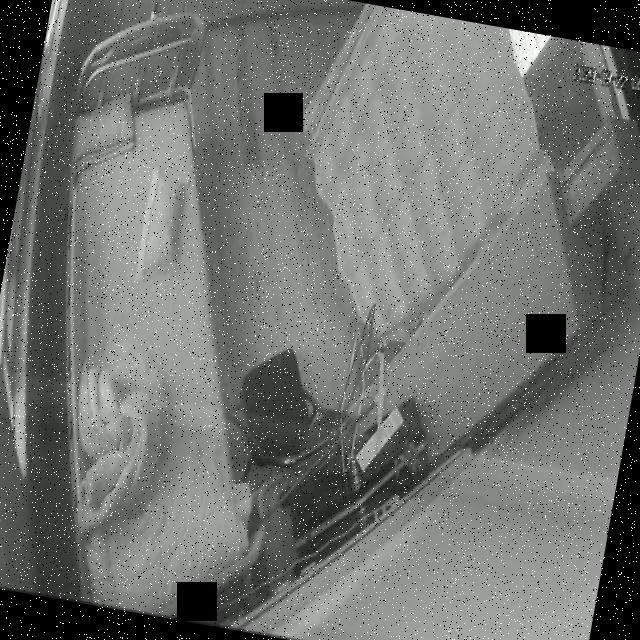bed: (0, 0, 336, 629)
